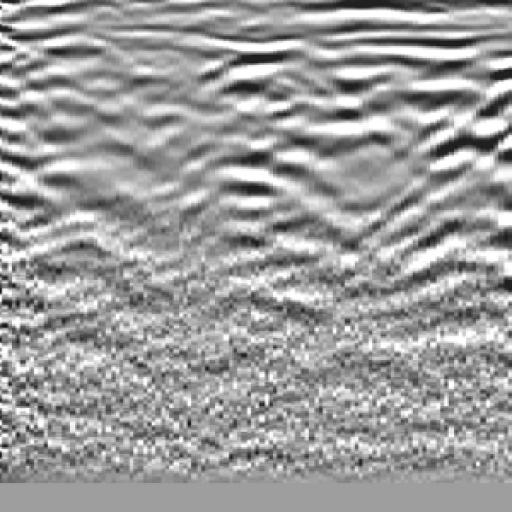metalic: (181, 21, 343, 270)
nonmetalic: (404, 39, 512, 279)
